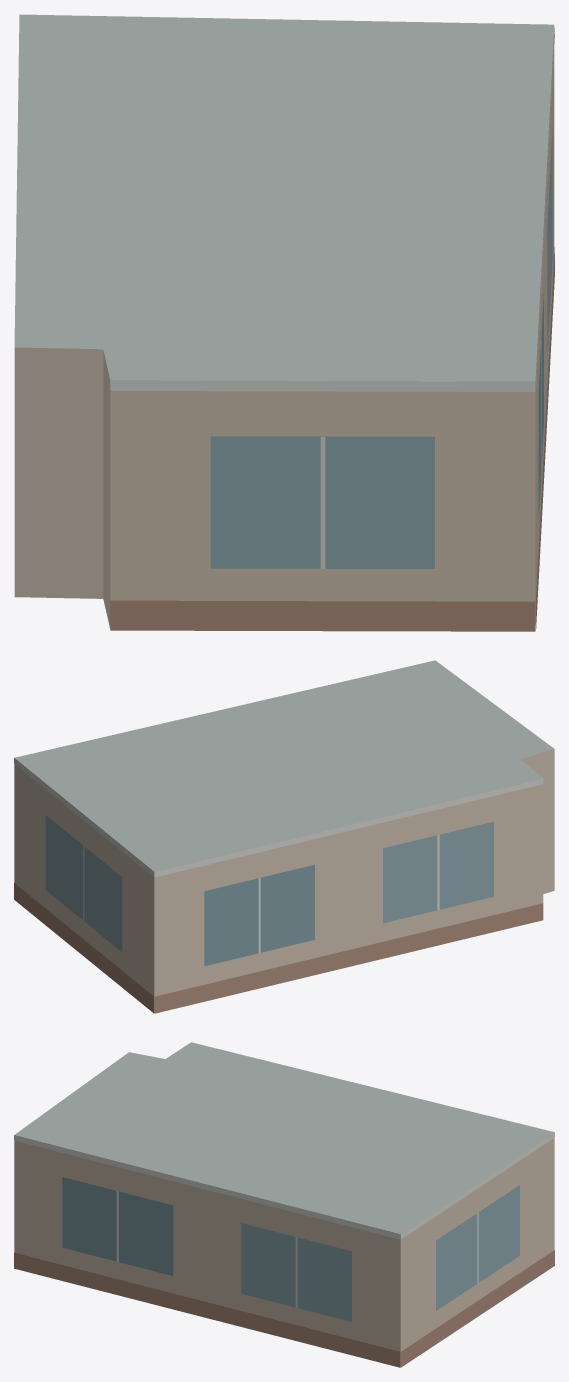
The model's file is survey-upis-32936944.glb.
3 views of the same model, one above another, from view 1: azimuth 30°, elevation 25°; view 2: azimuth 150°, elevation 25°; view 3: azimuth 270°, elevation 25° (orthographic). The views are drawn at different scales.
Visible parts, largest first — view 1: survey-upis-32936944.tmp; view 2: survey-upis-32936944.tmp; view 3: survey-upis-32936944.tmp.
Boxes of the visible parts, box(x1,y1,x2,y2) form: survey-upis-32936944.tmp: box(14, 14, 554, 631); survey-upis-32936944.tmp: box(14, 660, 554, 1013); survey-upis-32936944.tmp: box(14, 1042, 554, 1367).
Size of the model in its own units: 9.42 by 3.05 by 11.2.
